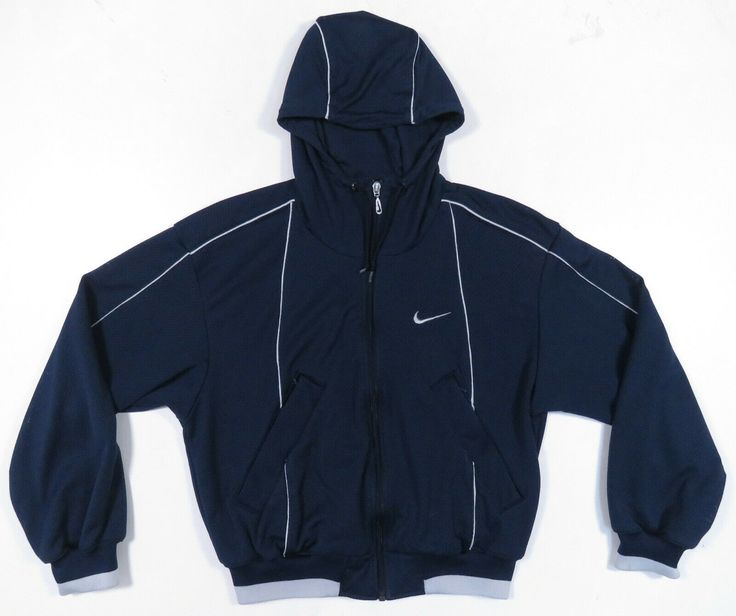nylon: (8, 11, 727, 601)
